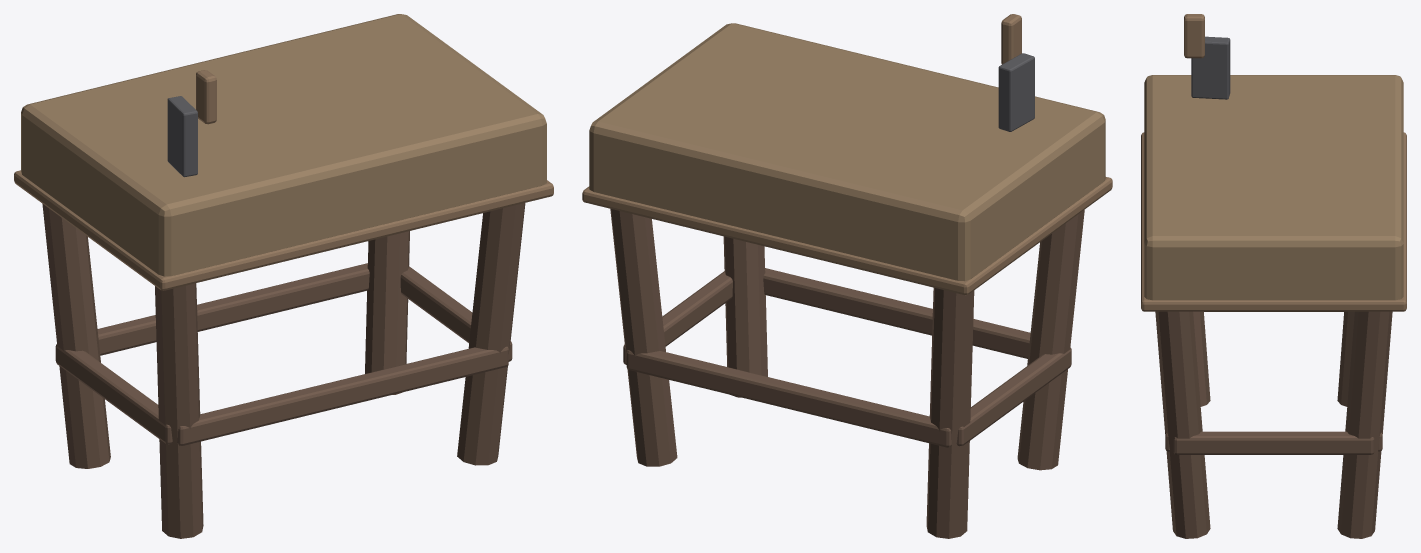
3 views of the same model, side by side, from view 1: azimuth 30°, elevation 25°; view 2: azimuth 150°, elevation 25°; view 3: azimuth 270°, elevation 25° (orthographic). The views are drawn at different scales.
Visible parts, largest first — view 1: choppingBlock; view 2: choppingBlock; view 3: choppingBlock.
Boxes of the visible parts, left/top/right/bottom form: choppingBlock: left=14, top=14, right=553, bottom=538; choppingBlock: left=582, top=14, right=1112, bottom=538; choppingBlock: left=1141, top=14, right=1406, bottom=538.
Bounding box in the file's own units: 0.965 × 1.05 × 0.635.
